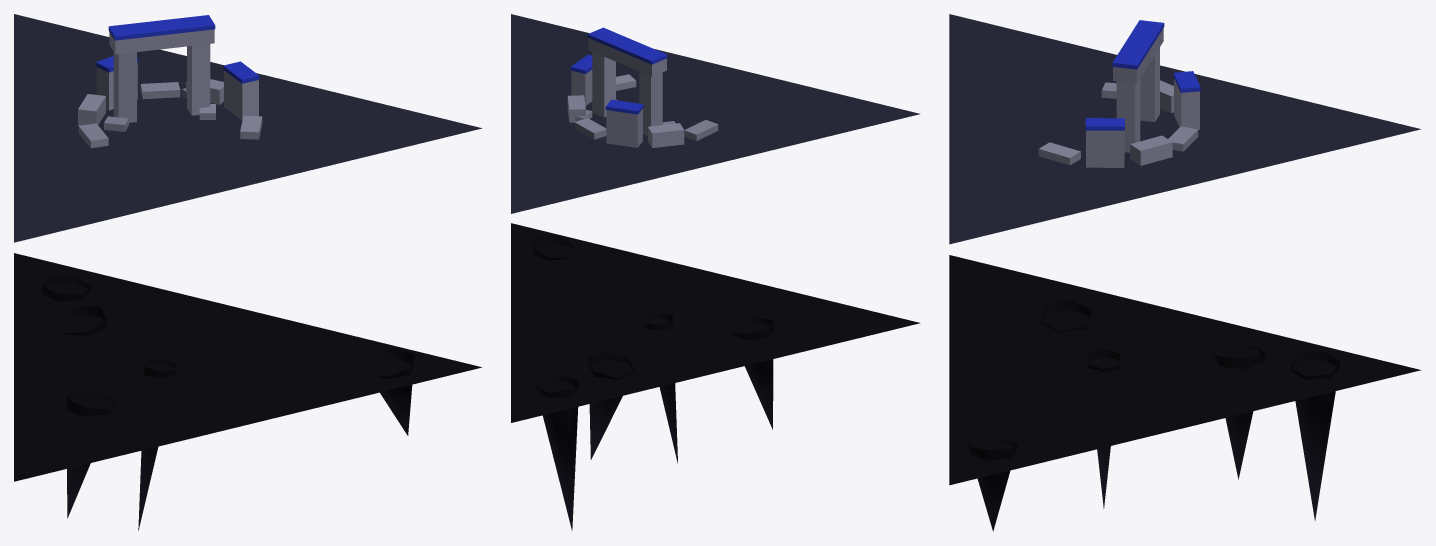
The model's file is MODULE_HOLLOW_FULL_RUINS.fbx.
3 views of the same model, side by side, from view 1: azimuth 30°, elevation 25°; view 2: azimuth 150°, elevation 25°; view 3: azimuth 270°, elevation 25° (orthographic). The views are drawn at different scales.
Visible parts, largest first — view 1: MODULE_HOLLOW_FULL_RUINS__export, MODULE_HOLLOW_FULL_RUINS_DECOR__export; view 2: MODULE_HOLLOW_FULL_RUINS__export, MODULE_HOLLOW_FULL_RUINS_DECOR__export; view 3: MODULE_HOLLOW_FULL_RUINS__export, MODULE_HOLLOW_FULL_RUINS_DECOR__export.
Part boxes in pixels (<box>): MODULE_HOLLOW_FULL_RUINS__export: <box>14,14,481,481</box>; MODULE_HOLLOW_FULL_RUINS_DECOR__export: <box>41,15,414,530</box>; MODULE_HOLLOW_FULL_RUINS__export: <box>511,14,920,422</box>; MODULE_HOLLOW_FULL_RUINS_DECOR__export: <box>532,27,773,530</box>; MODULE_HOLLOW_FULL_RUINS__export: <box>949,14,1421,485</box>; MODULE_HOLLOW_FULL_RUINS_DECOR__export: <box>968,20,1340,531</box>.
Size of the model in its own units: 100 by 99.36 by 86.6.
